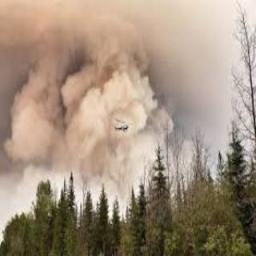Heavy smoke: (1, 1, 186, 213)
